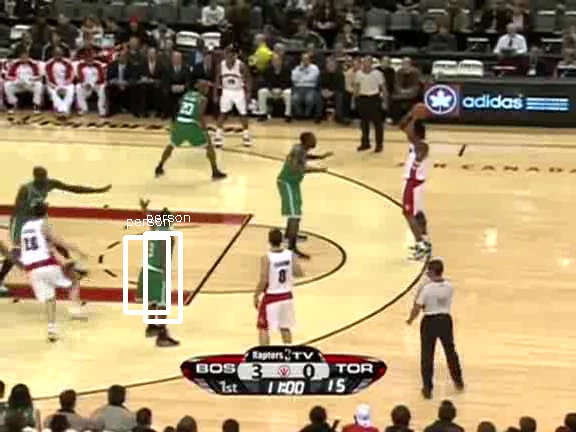person: (141, 227, 175, 308), (140, 227, 174, 308), (142, 227, 176, 308), (141, 226, 175, 307), (141, 228, 175, 309)
target_negative: (72, 208, 498, 357), (218, 161, 544, 319), (64, 219, 418, 308), (141, 263, 502, 325), (341, 237, 472, 265), (554, 285, 555, 345)
